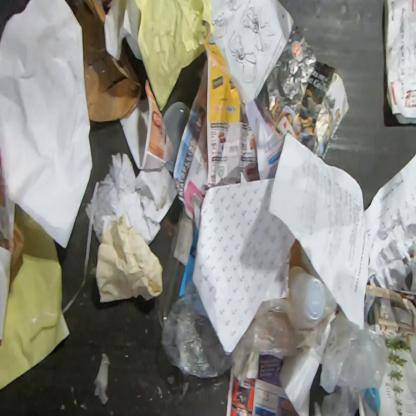cardboard: (64, 0, 143, 123)
rigid_plastic: (286, 265, 326, 322), (162, 101, 191, 173)
soft_plastic: (158, 279, 389, 415)
